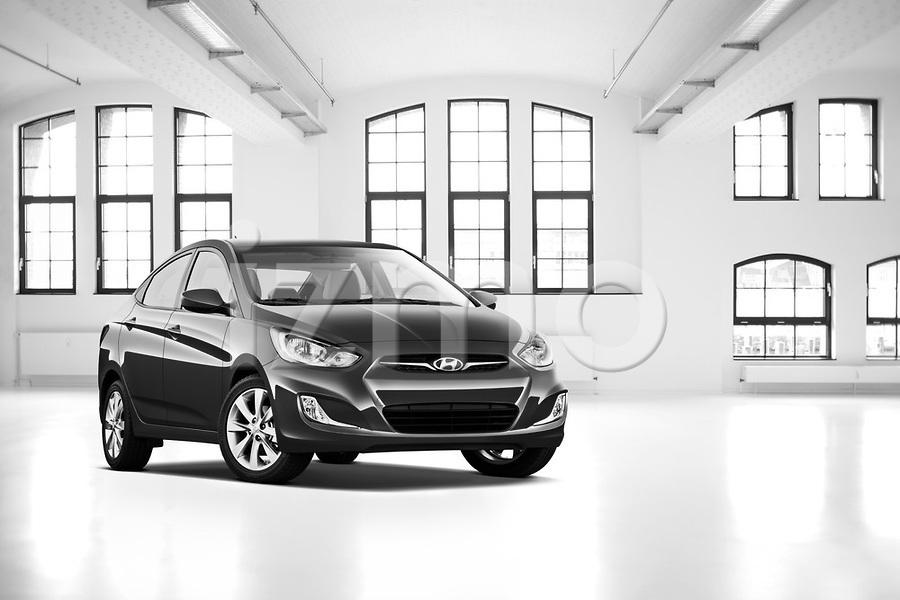car: (94, 235, 571, 486)
